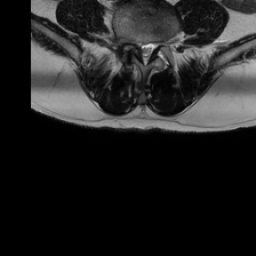CCS_normal: (141, 37, 147, 69)
LFS_severe_stenosis: (155, 35, 162, 53)
LLS_normal: (147, 38, 154, 58)
RFS_severe_stenosis: (126, 30, 135, 51)
RLS_severe_stenosis: (134, 35, 141, 53)
